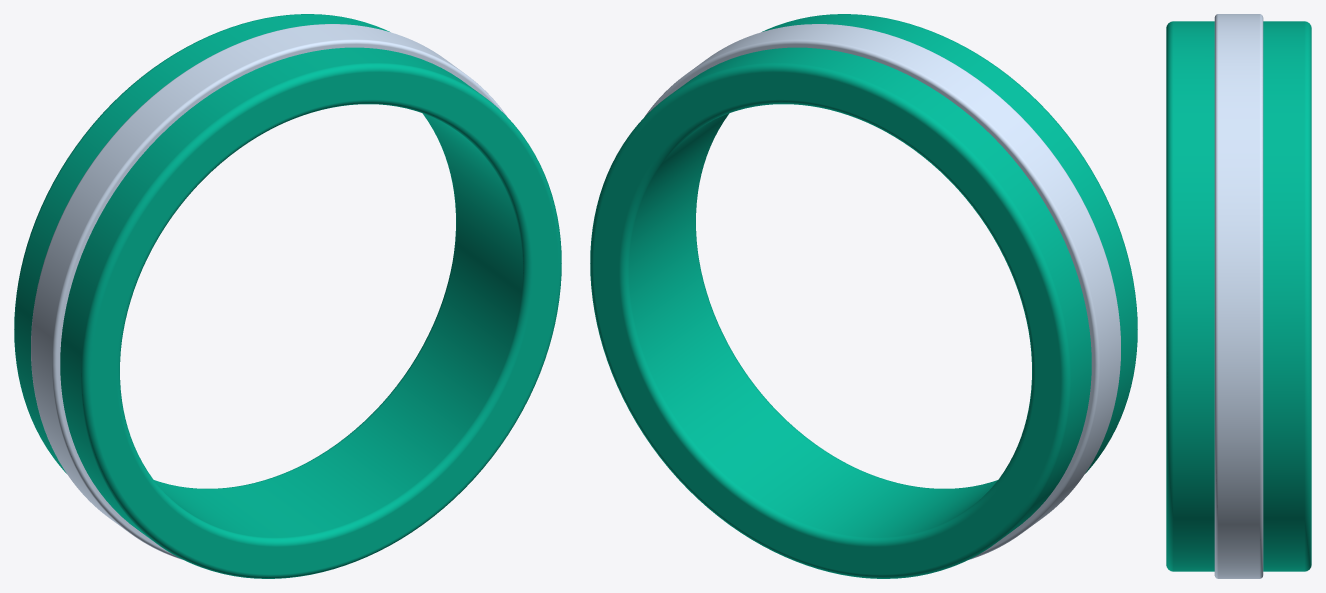
3 views of the same model, side by side, from view 1: azimuth 30°, elevation 25°; view 2: azimuth 150°, elevation 25°; view 3: azimuth 270°, elevation 25° (orthographic).
Parts seen in each view (by area): view 1: 7102AARIYA(FRONT).3dm; view 2: 7102AARIYA(FRONT).3dm; view 3: 7102AARIYA(FRONT).3dm.
Boxes of the visible parts, left/top/right/bottom form: 7102AARIYA(FRONT).3dm: left=14, top=14, right=561, bottom=578; 7102AARIYA(FRONT).3dm: left=590, top=14, right=1137, bottom=578; 7102AARIYA(FRONT).3dm: left=1166, top=14, right=1311, bottom=578.
Size of what is drawn, in the model's own units: 2.78 by 2.78 by 0.7167.
